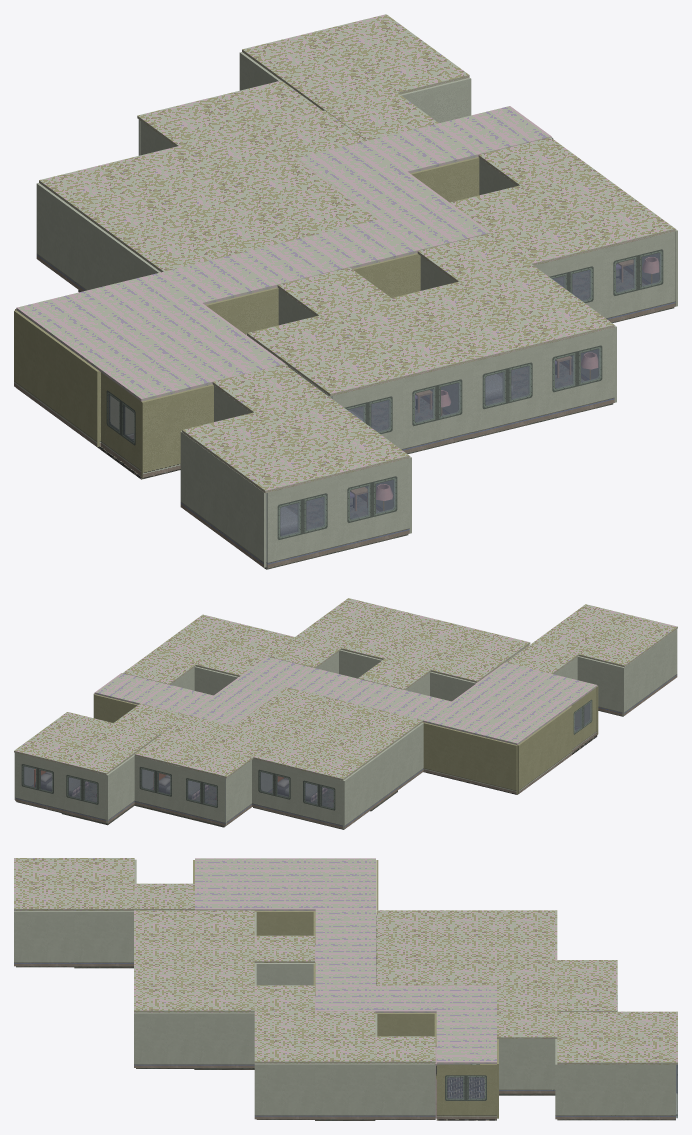
File: cruise_ship.glb
3 views of the same model, one above another, from view 1: azimuth 30°, elevation 25°; view 2: azimuth 150°, elevation 25°; view 3: azimuth 270°, elevation 25° (orthographic). The views are drawn at different scales.
Parts seen in each view (by area): view 1: room_wall_with_window-col.011, room_wall_with_window-col.016, room_wall_with_window-col.010, room_wall_with_window-col.012, room_wall_with_window-col.015, room_wall_with_window-col.008, base_wall-col.008, base_wall.022, room_wall-col.042, room_wall-col.019, room_ceiling.029, room_ceiling.019 (+61 smaller); view 2: base_wall.023, room_wall_with_window-col.013, base_wall-col.003, room_wall_with_window-col.003, room_wall_with_window-col.005, room_wall_with_window-col.006, room_wall_with_window-col.014, room_wall_with_window-col.004, room_wall-col.041, room_wall-col.005, base_wall.021, room_wall-col.019 (+63 smaller); view 3: room_wall-col.029, room_wall-col.031, room_wall-col.033, room_wall-col.004, room_wall-col.052, base_wall-col.018, room_wall-col.040, room_wall-col.054, room_wall-col.007, room_wall-col.038, room_wall-col.002, base_ceiling-col.003 (+54 smaller).
Part boxes in pixels (x1,y1,x2,y2): room_wall_with_window-col.011: (266,475,339,568); room_wall_with_window-col.016: (542,327,614,420); room_wall_with_window-col.010: (603,231,675,322); room_wall_with_window-col.012: (337,458,409,550); room_wall_with_window-col.015: (472,345,542,437); room_wall_with_window-col.008: (404,362,472,453); base_wall-col.008: (141,384,213,477); base_wall.022: (55,340,99,446); room_wall-col.042: (222,462,266,567); room_wall-col.019: (36,183,79,288); room_ceiling.029: (223,443,337,493); room_ceiling.019: (288,346,402,396); base_wall.023: (470,734,517,793); room_wall_with_window-col.013: (179,767,226,826); base_wall-col.003: (424,722,470,782); room_wall_with_window-col.003: (15,753,61,812); room_wall_with_window-col.005: (252,759,298,817); room_wall_with_window-col.006: (296,770,342,828); room_wall_with_window-col.014: (134,756,179,814); room_wall_with_window-col.004: (60,764,106,822); room_wall-col.041: (577,656,622,715); room_wall-col.005: (106,755,134,823); base_wall.021: (517,725,545,793); room_wall-col.019: (343,761,371,829); room_wall-col.029: (375,1063,435,1119); room_wall-col.031: (315,1063,375,1119); room_wall-col.033: (254,1063,314,1119); room_wall-col.004: (555,1063,615,1119); room_wall-col.052: (194,1012,254,1067); base_wall-col.018: (436,1064,496,1119); room_wall-col.040: (14,911,74,966); room_wall-col.054: (134,1012,194,1067); room_wall-col.007: (615,1064,675,1119); room_wall-col.038: (74,911,133,966); room_wall-col.002: (499,1039,555,1093); base_ceiling-col.003: (255,883,315,910).
Size of the model in its own units: 24.17 by 3.21 by 33.01.
Materials: 37 (34 with a texture image).
